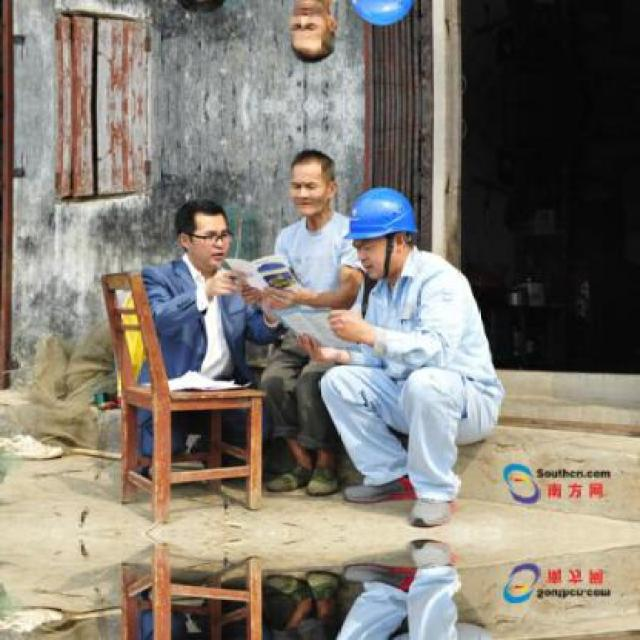helmet: (344, 174, 422, 284), (343, 0, 423, 39)
